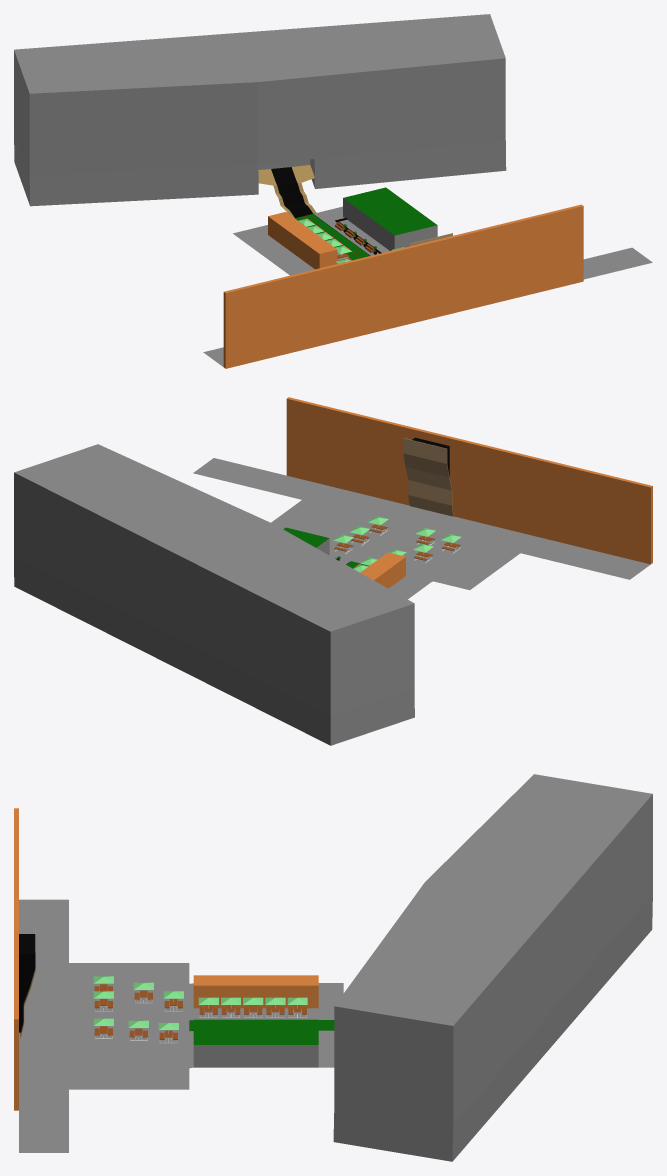
The model's file is layout_outdoor.fbx.
3 renders of one model, top to bottom at view 1: azimuth 30°, elevation 25°; view 2: azimuth 150°, elevation 25°; view 3: azimuth 270°, elevation 25°, orthographic. The views are drawn at different scales.
Visible parts, largest first — view 1: gedung, gedung parkir, floor, Cube.001, Cube.002, stair, tempat makan; view 2: gedung, gedung parkir, floor, Cube.002; view 3: gedung, floor, Cube.001, Cube.002, gedung parkir, tempat makan.
Part boxes in pixels (x1,y1,x2,y2): gedung: (14,14,506,206); gedung parkir: (223,204,583,368); floor: (203,206,652,366); Cube.001: (343,187,437,250); Cube.002: (268,212,337,269); stair: (258,165,316,218); tempat makan: (298,218,351,260); gedung: (14,444,414,745); gedung parkir: (286,397,652,564); floor: (193,458,650,599); Cube.002: (360,552,405,588); gedung: (333,774,652,1161); floor: (19,899,343,1152); Cube.001: (193,1019,318,1067); Cube.002: (193,975,318,1008); gedung parkir: (14,808,35,1110); tempat makan: (198,997,307,1017).
Size of the model in its own units: 12469 by 3020 by 12796.
